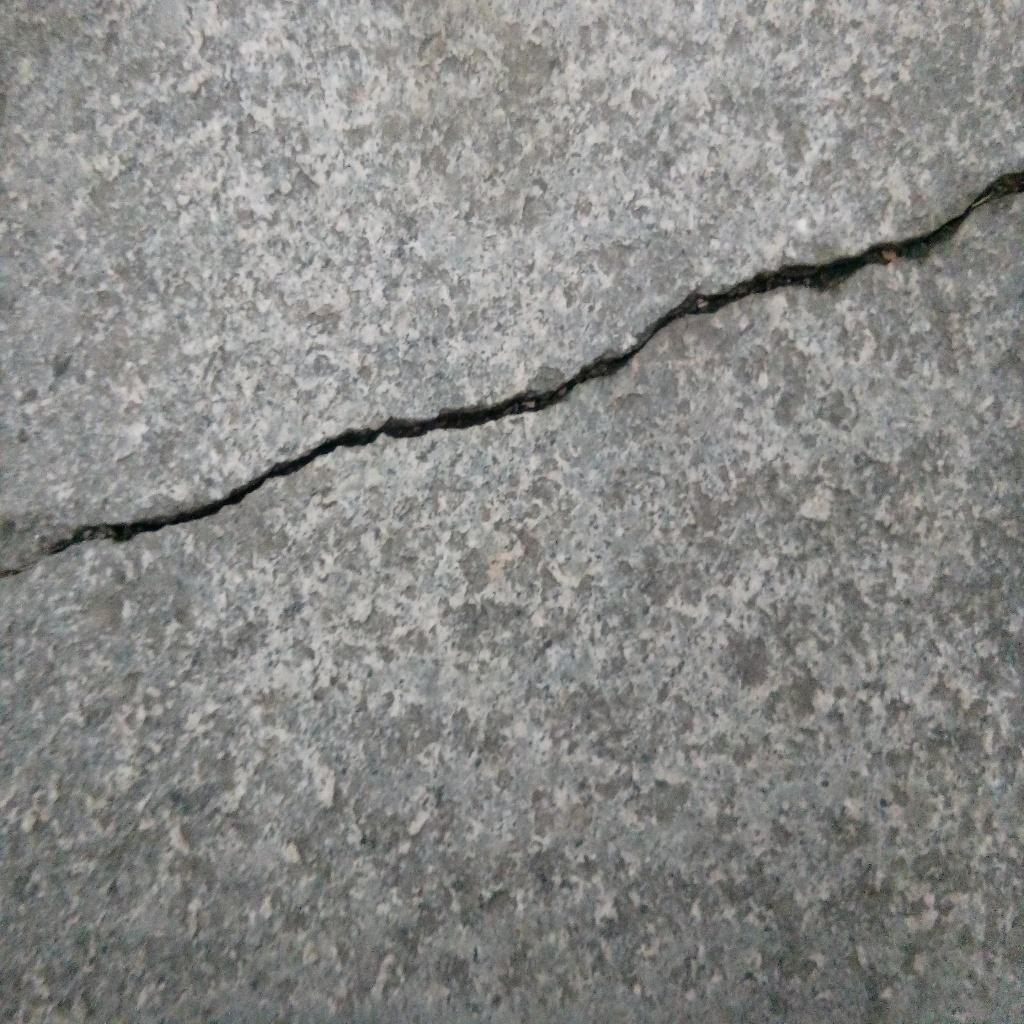Crack: (1, 167, 1024, 576)
